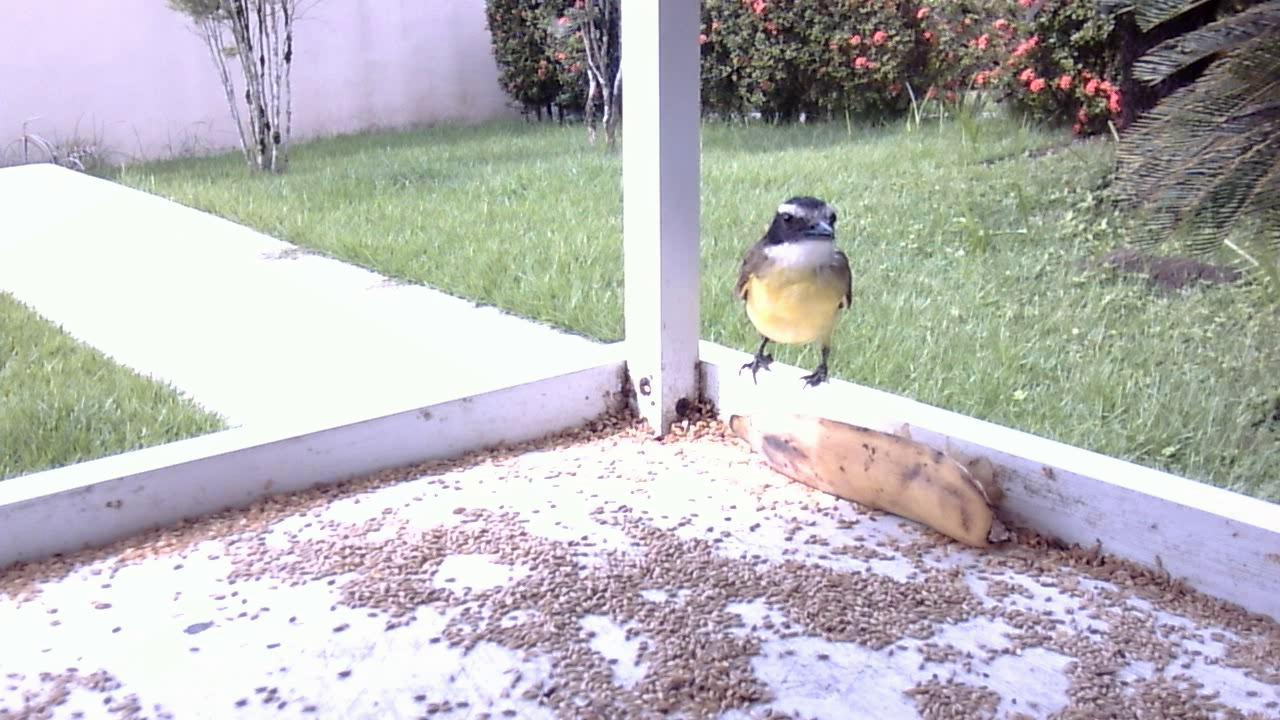bem_te_vi: (728, 192, 854, 398)
